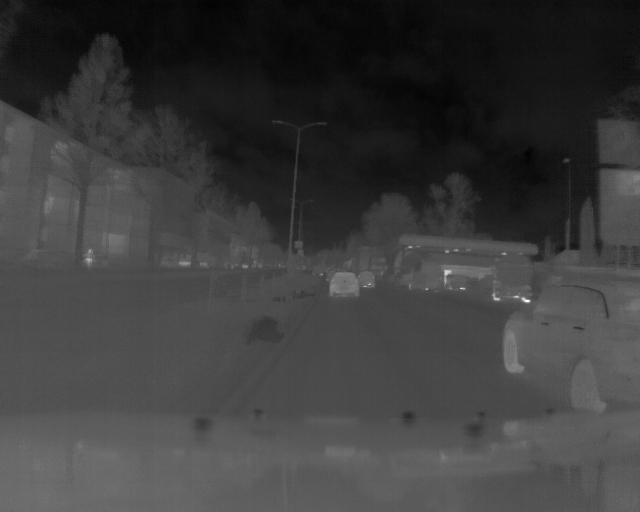car: (498, 273, 640, 417), (327, 271, 361, 299), (353, 270, 380, 291)
